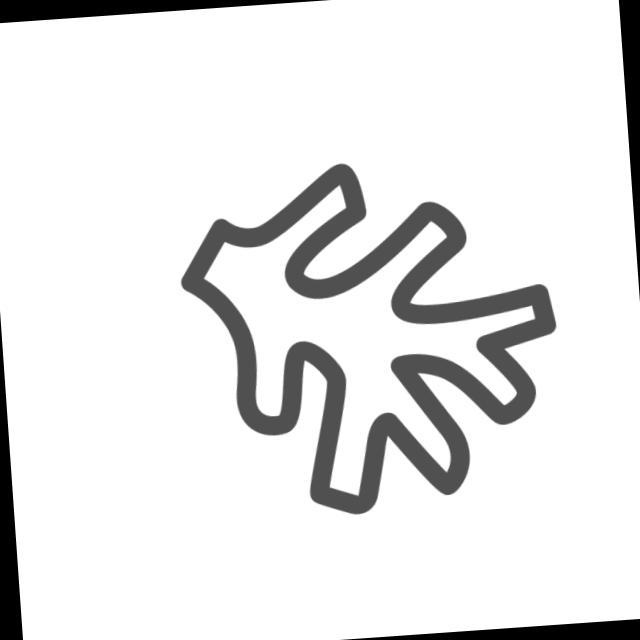coral: (164, 140, 577, 532)
